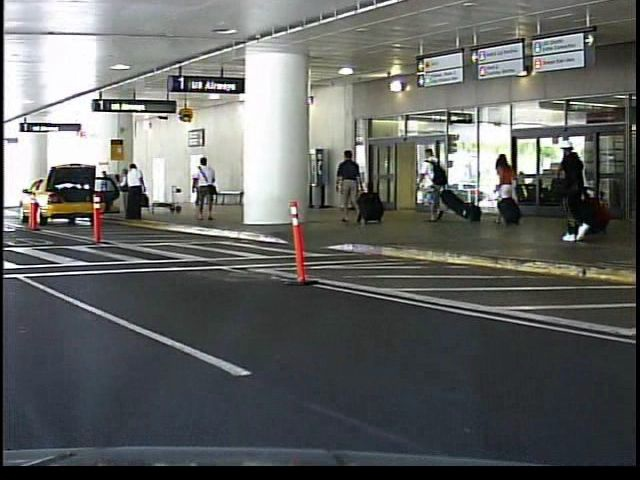person: (549, 131, 597, 243), (491, 145, 526, 230), (413, 142, 450, 222), (336, 143, 367, 226), (194, 154, 225, 227), (186, 164, 208, 211)
